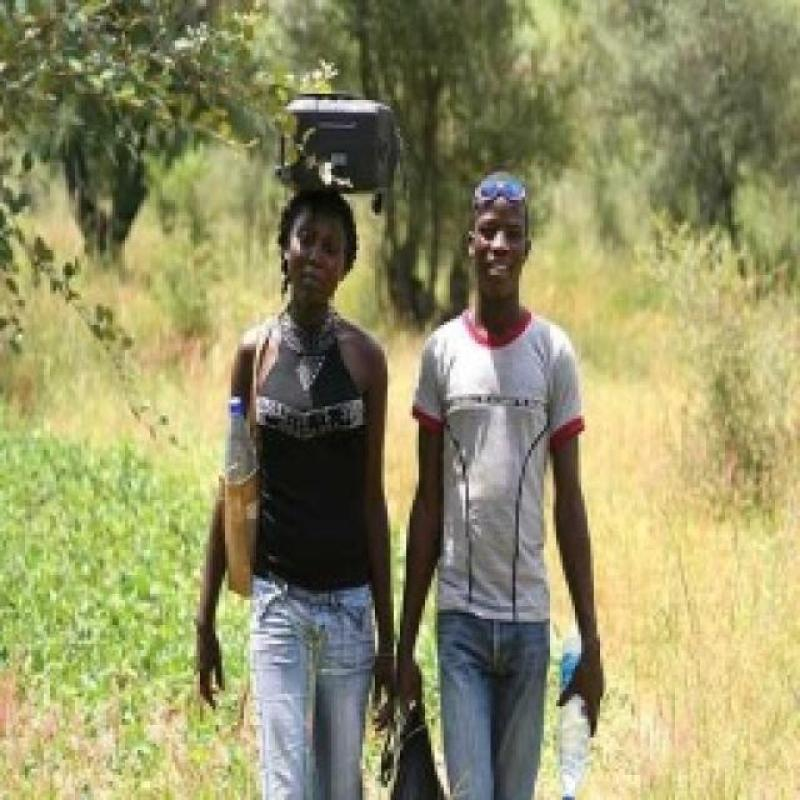botella: (558, 625, 592, 800), (225, 395, 256, 483)
